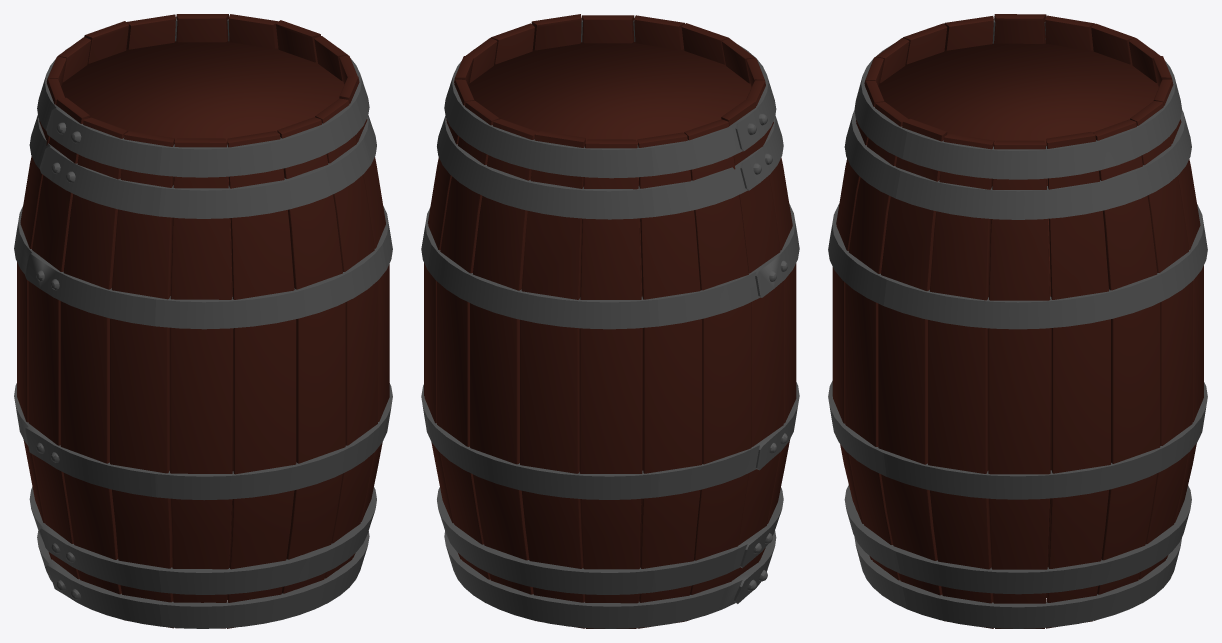
Rendered from Barril.fbx.
3 renders of one model, left to right at view 1: azimuth 30°, elevation 25°; view 2: azimuth 150°, elevation 25°; view 3: azimuth 270°, elevation 25°, orthographic.
Parts seen in each view (by area): view 1: Object_PlanksNe.jpg.001, Object_rust.jpg, mat_2-PlanksNe.jpg; view 2: Object_PlanksNe.jpg.001, Object_rust.jpg, mat_2-PlanksNe.jpg; view 3: Object_PlanksNe.jpg.001, Object_rust.jpg, mat_2-PlanksNe.jpg.
Part boxes in pixels (<box>): Object_PlanksNe.jpg.001: <box>17,14,389,628</box>; Object_rust.jpg: <box>14,17,392,628</box>; mat_2-PlanksNe.jpg: <box>61,41,344,598</box>; Object_PlanksNe.jpg.001: <box>424,14,796,628</box>; Object_rust.jpg: <box>421,18,799,628</box>; mat_2-PlanksNe.jpg: <box>468,42,751,598</box>; Object_PlanksNe.jpg.001: <box>832,14,1203,628</box>; Object_rust.jpg: <box>828,18,1207,628</box>; mat_2-PlanksNe.jpg: <box>878,43,1158,597</box>.
Bounding box in the file's own units: 1.76 × 2.5 × 1.76.
